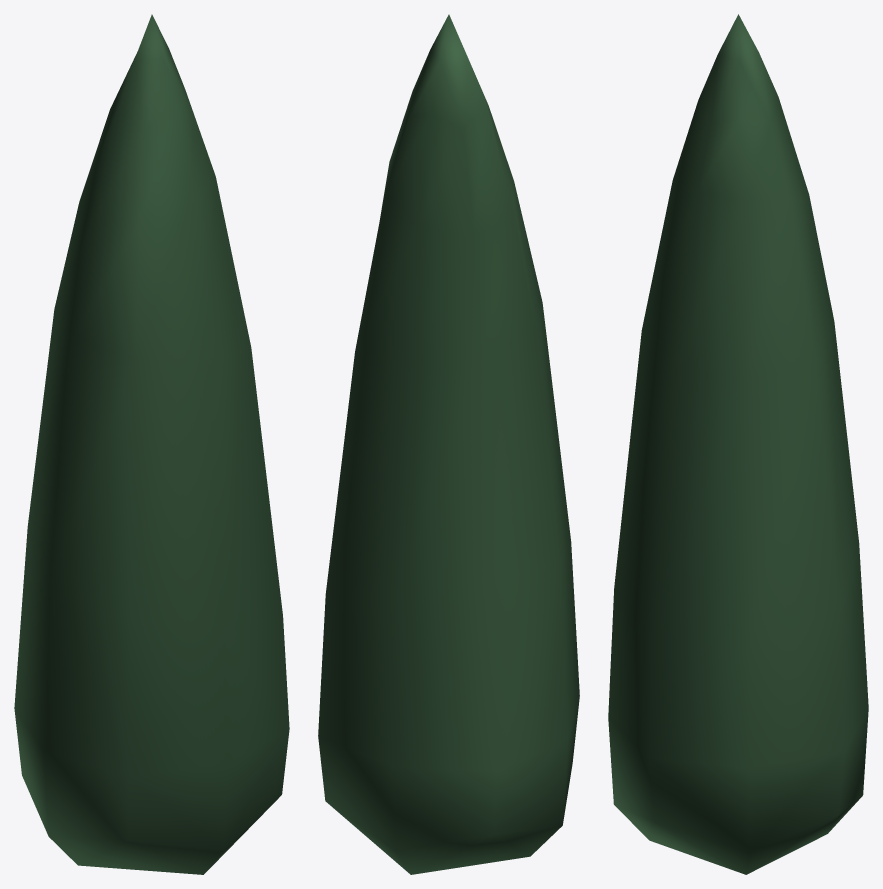
3 renders of one model, left to right at view 1: azimuth 30°, elevation 25°; view 2: azimuth 150°, elevation 25°; view 3: azimuth 270°, elevation 25°, orthographic.
Visible parts, largest first — view 1: treeEvergrn.039; view 2: treeEvergrn.039; view 3: treeEvergrn.039.
Boxes of the visible parts, bbox=[...] form: treeEvergrn.039: bbox=[14, 14, 289, 874]; treeEvergrn.039: bbox=[318, 14, 579, 874]; treeEvergrn.039: bbox=[608, 14, 868, 874].
Bounding box in the file's own units: 0.1403 × 0.5 × 0.1403.
